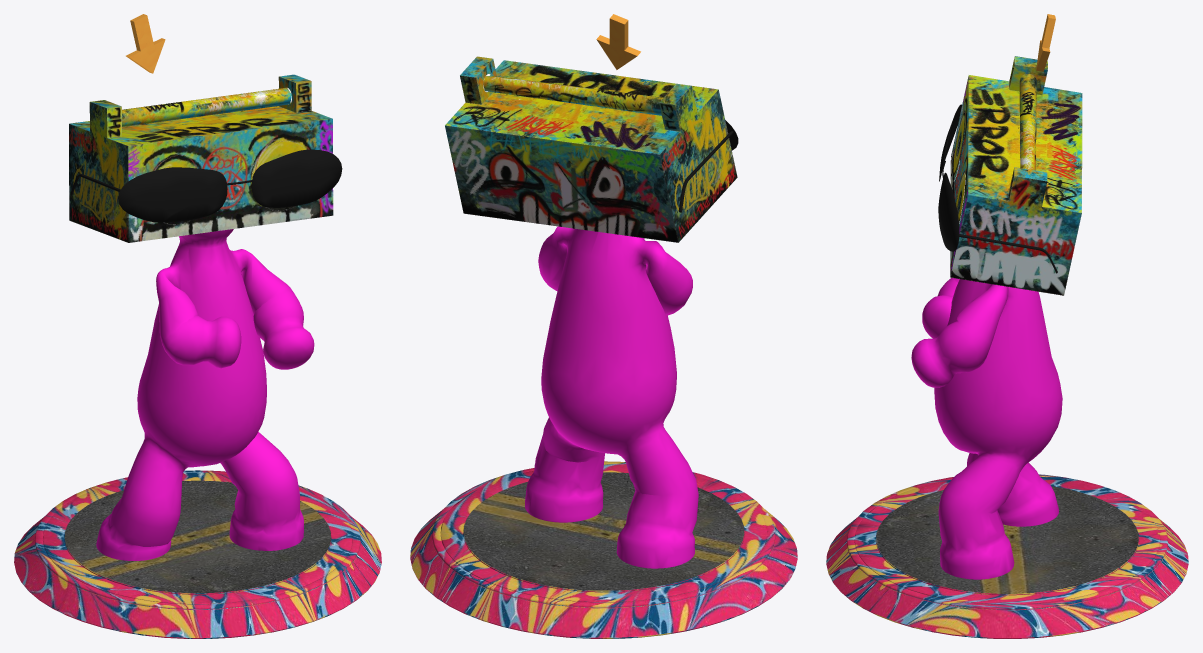
3 renders of one model, left to right at view 1: azimuth 30°, elevation 25°; view 2: azimuth 150°, elevation 25°; view 3: azimuth 270°, elevation 25°, orthographic. The views are drawn at different scales.
Size of the model in its own units: 1.45 by 2.34 by 1.45.
6 materials, 4 textured.
